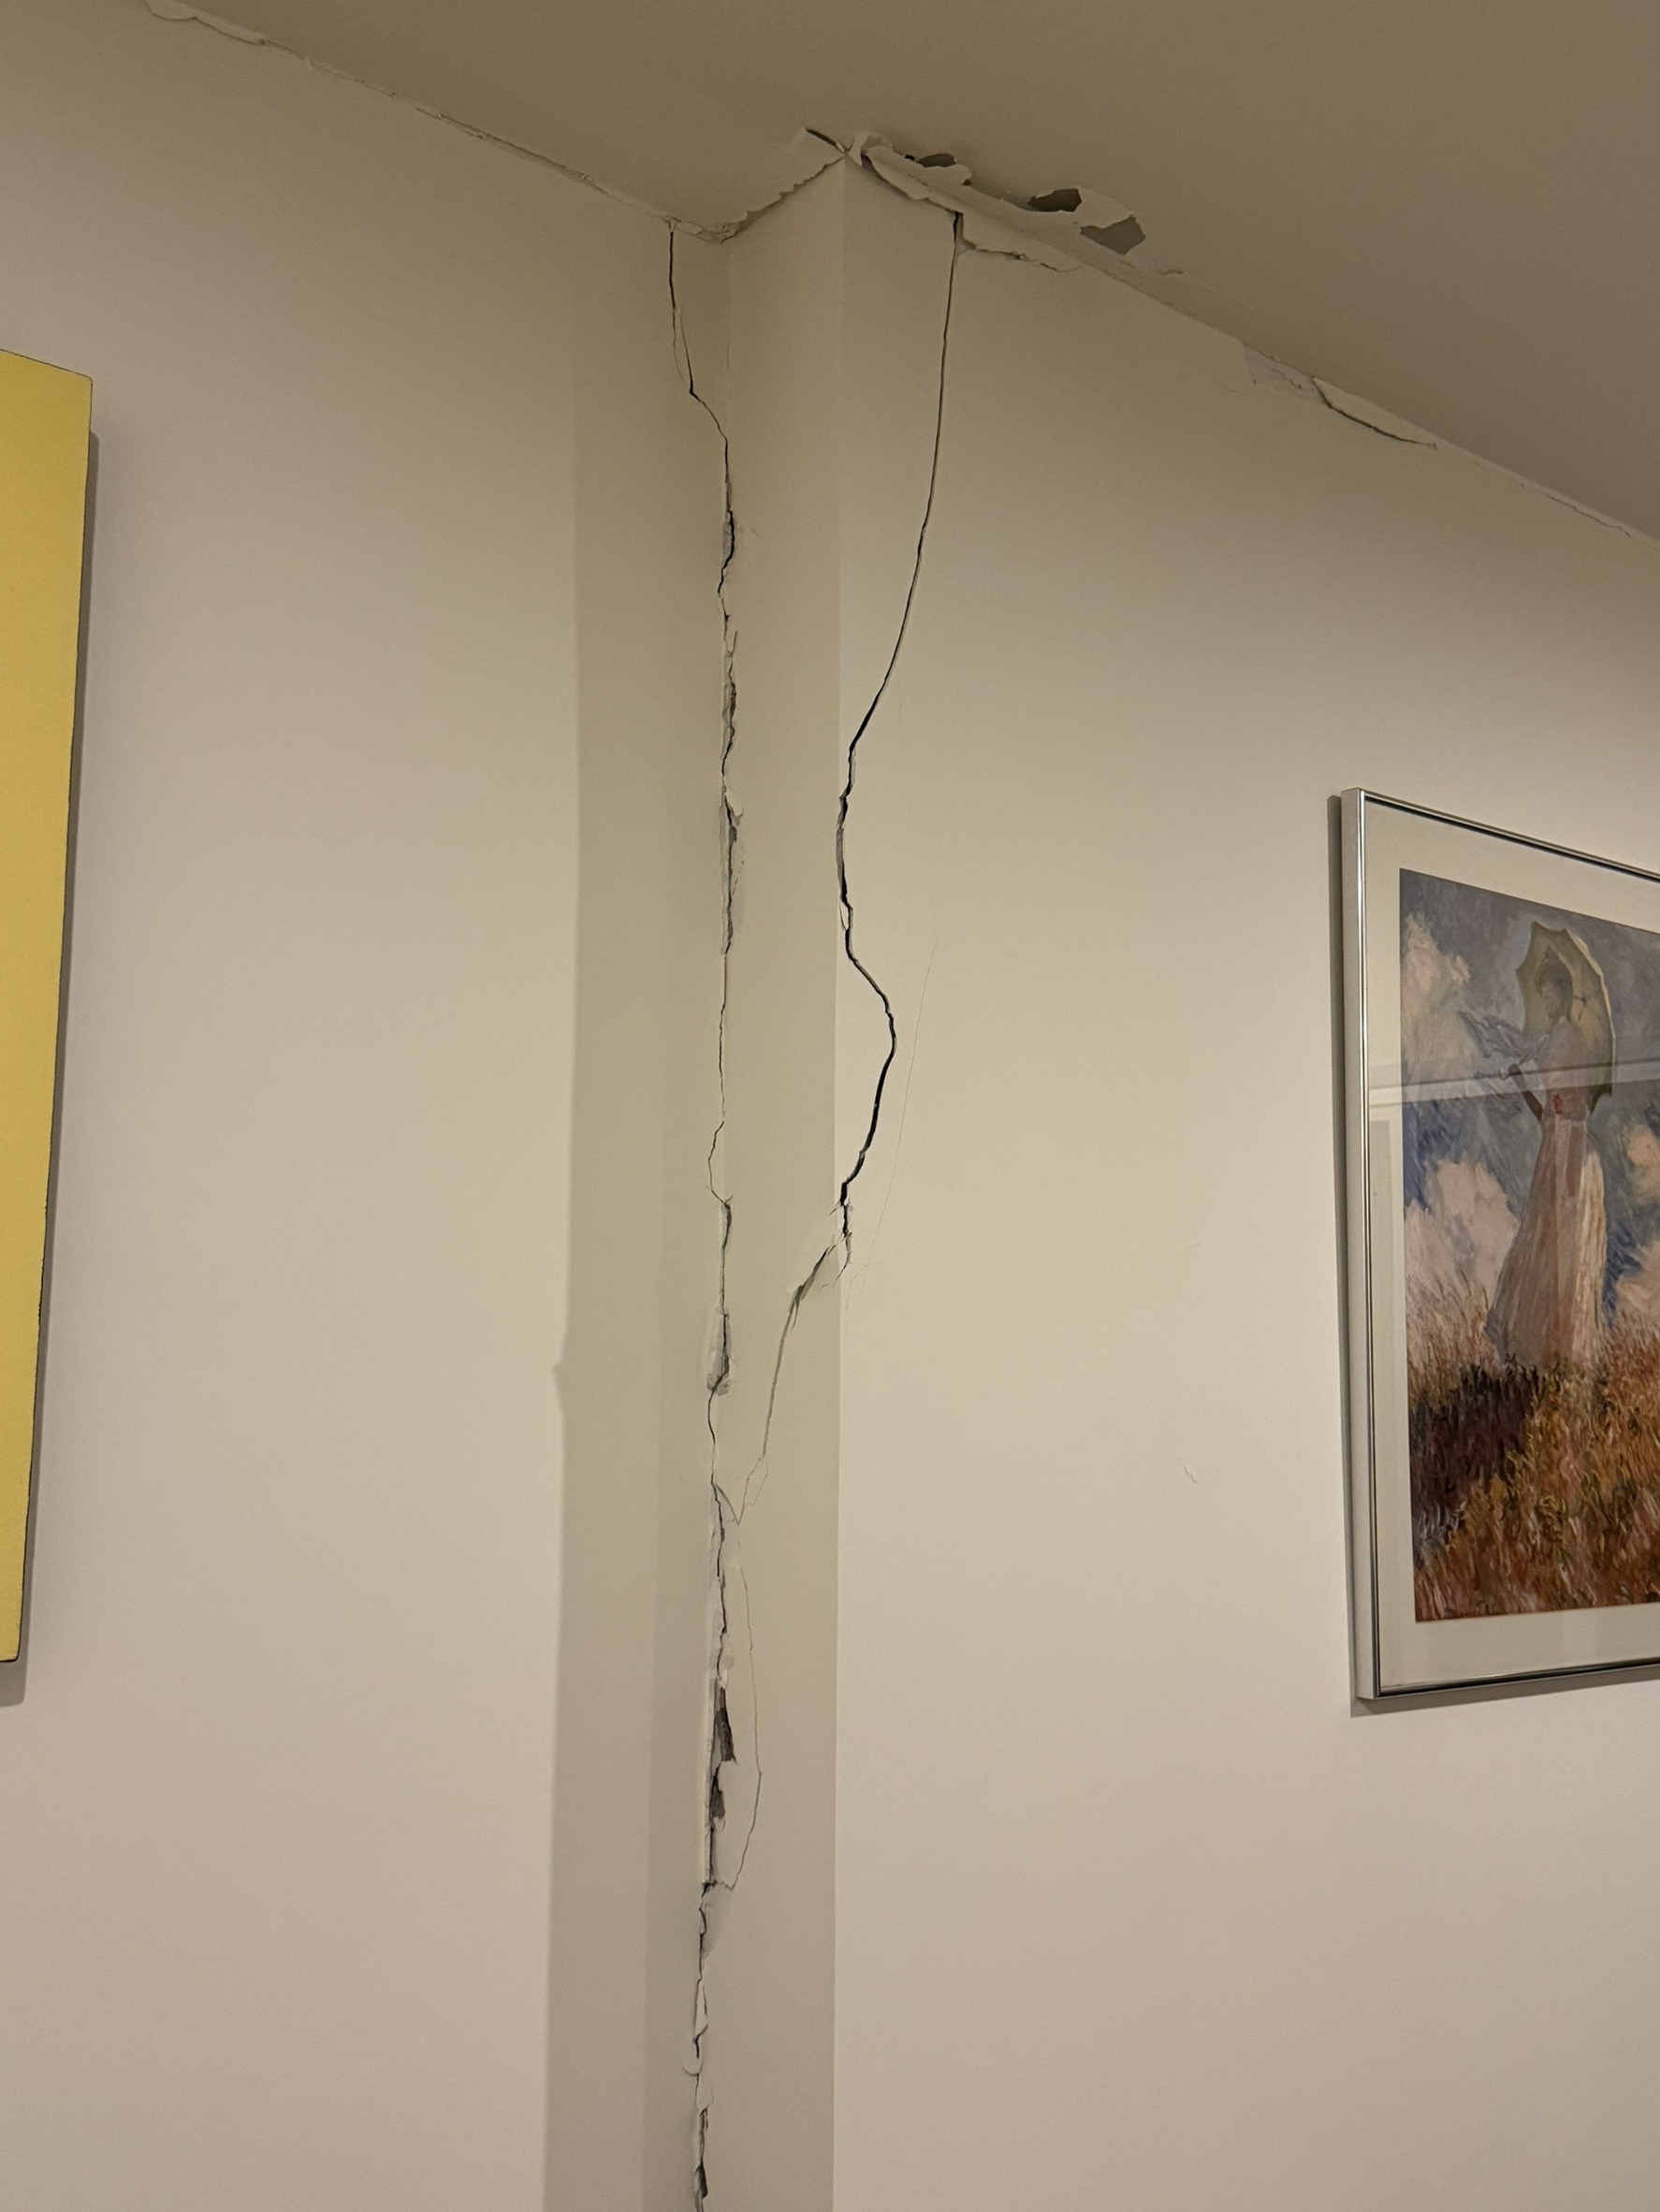High: (591, 92, 1440, 2212)
